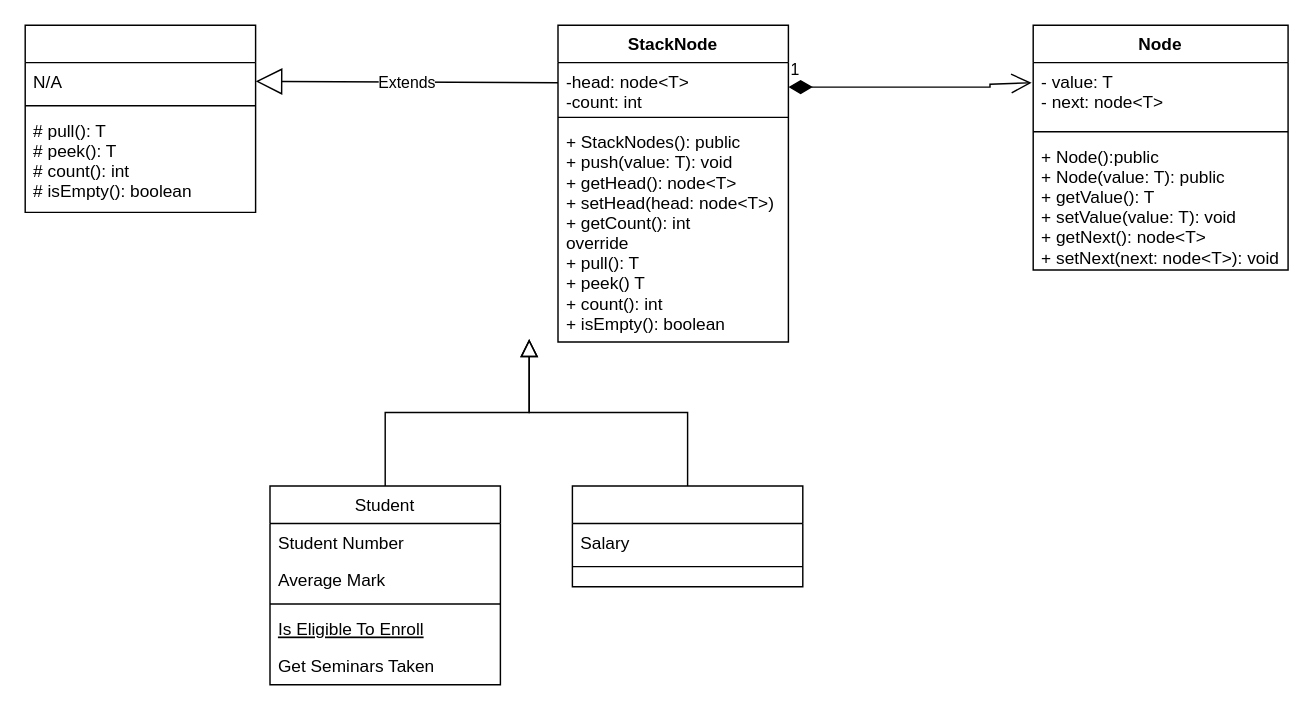
This 1313x714 diagram has some shape labels left out. Each missing label, with the box of its shape:
IStack: (24, 24, 256, 212)
Professor: (571, 485, 803, 587)
